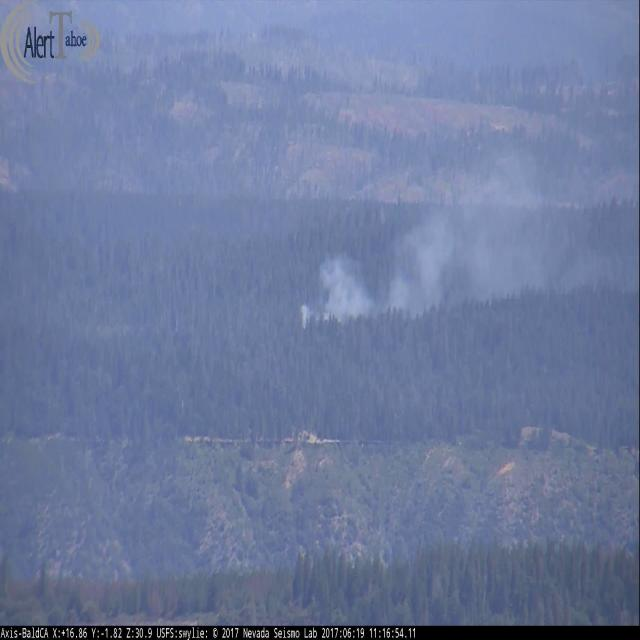smoke: (297, 133, 613, 332)
